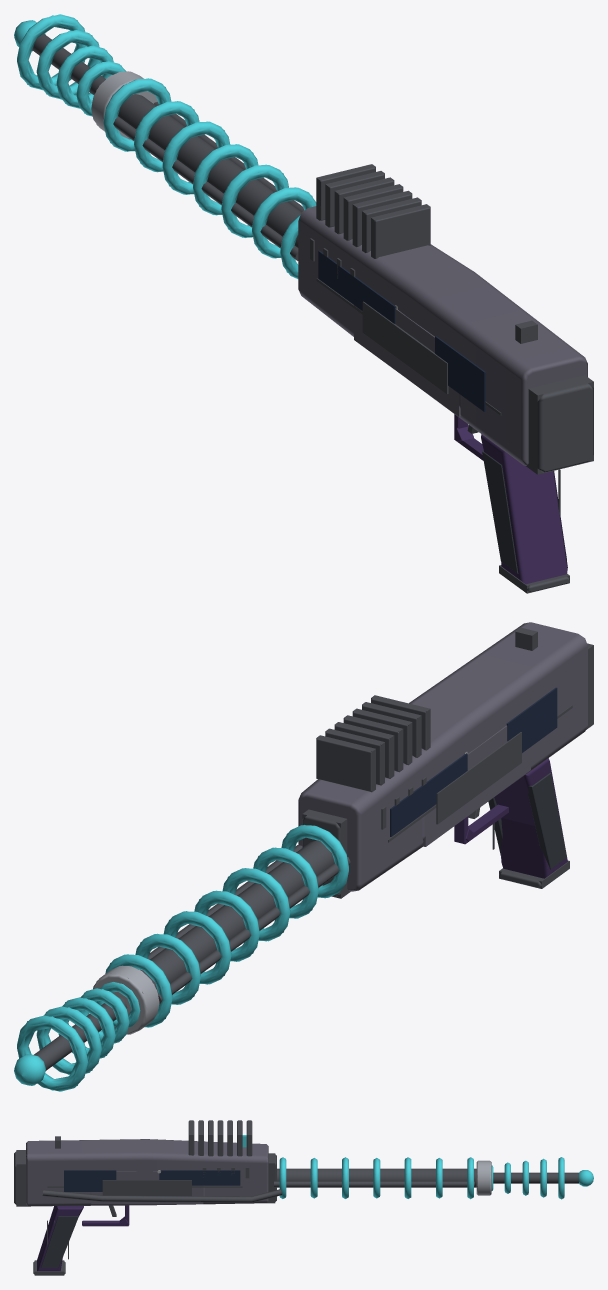
The model's file is x_tesla.glb.
3 renders of one model, top to bottom at view 1: azimuth 30°, elevation 25°; view 2: azimuth 150°, elevation 25°; view 3: azimuth 270°, elevation 25°, orthographic. The views are drawn at different scales.
Visible parts, largest first — view 1: L0, L1; view 2: L0, L1; view 3: L0, L1.
Part boxes in pixels (left/top/right/bottom): L0: left=14, top=14, right=593, bottom=592; L1: left=14, top=15, right=593, bottom=593; L0: left=14, top=622, right=593, bottom=1091; L1: left=14, top=643, right=593, bottom=1090; L0: left=14, top=1120, right=593, bottom=1274; L1: left=16, top=1120, right=592, bottom=1275.
Size of the model in its own units: 0.0699 by 0.2109 by 0.7786.
